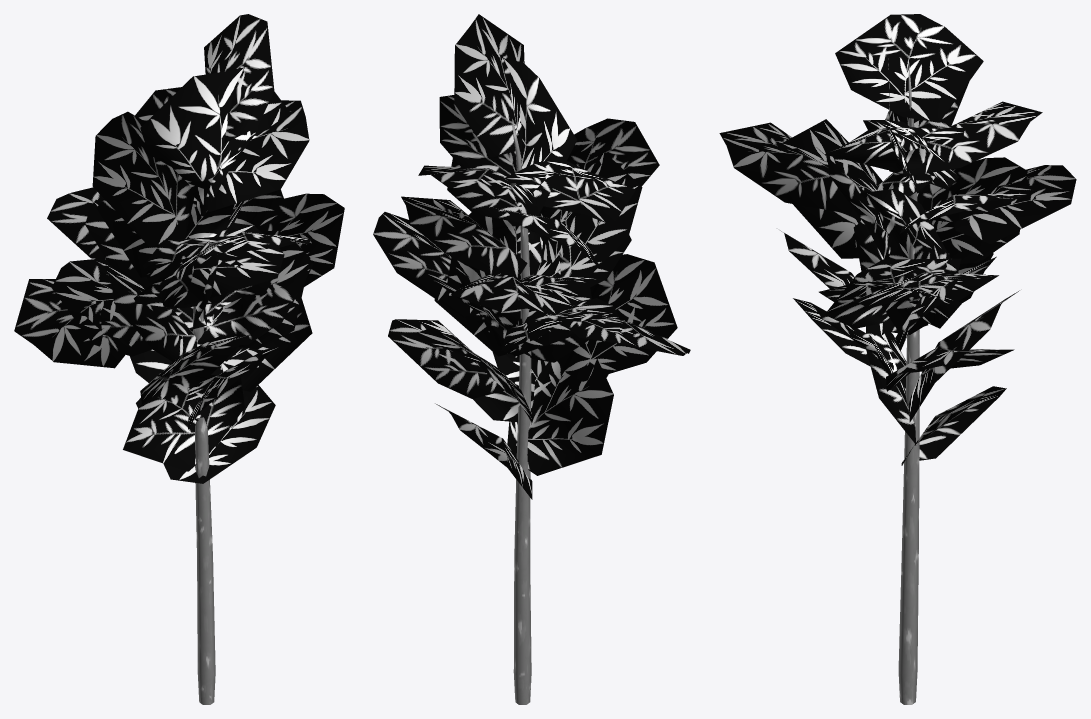
The model's file is P_BambooSapling4.obj.
The picture shows the model from 3 angles, left to right: view 1: azimuth 30°, elevation 25°; view 2: azimuth 150°, elevation 25°; view 3: azimuth 270°, elevation 25°; orthographic projection. The views are drawn at different scales.
Size of the model in its own units: 5.11 by 10.43 by 4.72.
